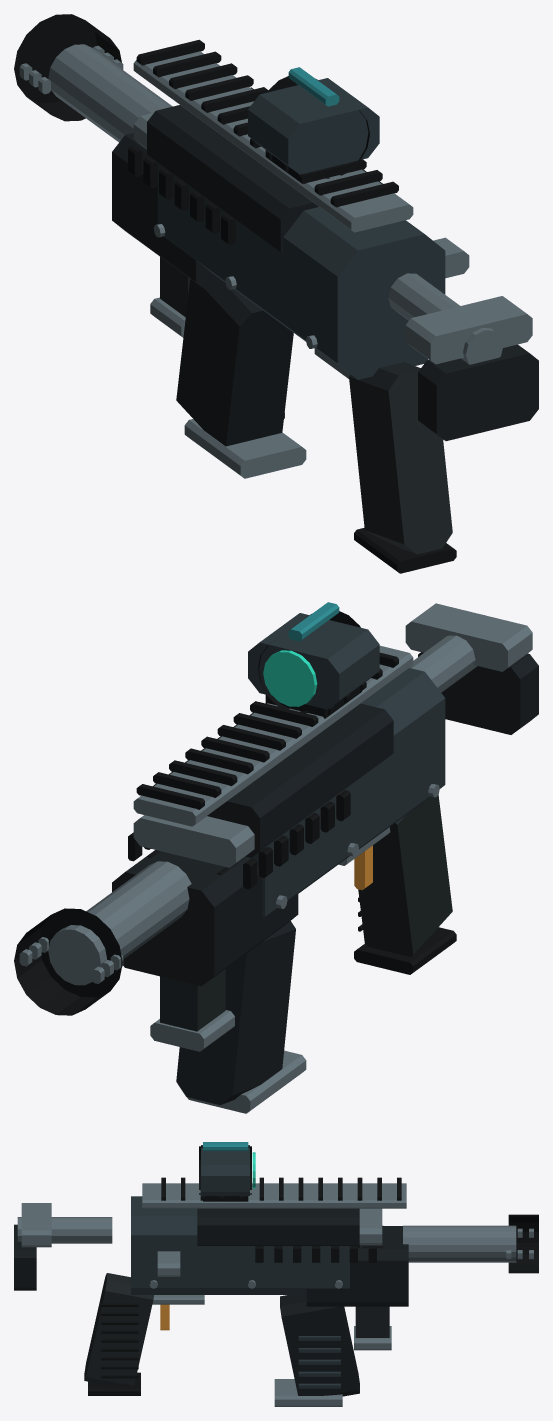
File: VectorK9.obj
3 views of the same model, one above another, from view 1: azimuth 30°, elevation 25°; view 2: azimuth 150°, elevation 25°; view 3: azimuth 270°, elevation 25° (orthographic). The views are drawn at different scales.
Size of the model in its own units: 0.303 by 0.7465 by 1.39.
